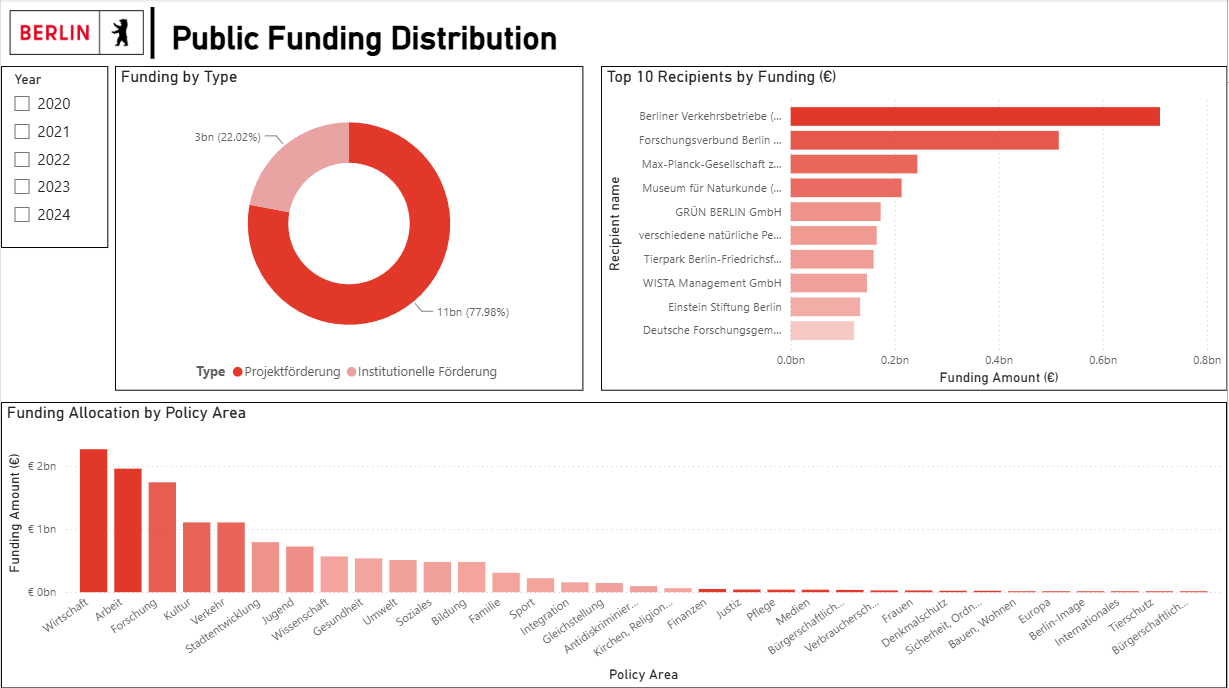

Layout of this report page (visuals, bound fields, positions):
{"tool":"powerbi","page":{"name":"Funding Distribution","canvas":[1280,720],"ordinal":1},"visuals":[{"type":"clusteredColumnChart","title":"Funding Allocation by Policy Area","fields":{"Y":["Sum(index1.betrag)"],"Category":["index1.politikbereich"]},"box":[0,420.8,1280,298.6],"z":0},{"type":"slicer","fields":{"Values":["index1.jahr"]},"box":[0,70,111.7,190],"z":1000},{"type":"donutChart","title":"Funding by Type","fields":{"Category":["index1.art"],"Y":["Sum(index1.betrag)"]},"box":[118.6,70.9,489.1,338.7],"z":2000},{"type":"image","box":[0,0,158.5,70],"z":3000},{"type":"textbox","box":[173.3,16.7,466.7,53.2],"z":4000},{"type":"clusteredBarChart","title":"Top 10 Recipients by Funding (€) ","fields":{"Y":["Sum(index1.betrag)"],"Category":["index1.name"]},"box":[626.4,70,653.6,339.3],"z":5000},{"type":"shape","box":[132.6,8.4,51.2,54.3],"z":6000}]}

Visuals, with their boxes in screenshot pixels (x1, y1, x2, y2), scaled from the page's 1280x720 canvas onto the 1229x688 screenshot:
"Funding Allocation by Policy Area" clusteredColumnChart: <box>0,402,1228,687</box>
slicer - index1.jahr: <box>0,67,107,248</box>
"Funding by Type" donutChart: <box>114,68,583,391</box>
image: <box>0,0,152,67</box>
textbox: <box>166,16,614,67</box>
"Top 10 Recipients by Funding (€) " clusteredBarChart: <box>601,67,1228,391</box>
shape: <box>127,8,176,60</box>
